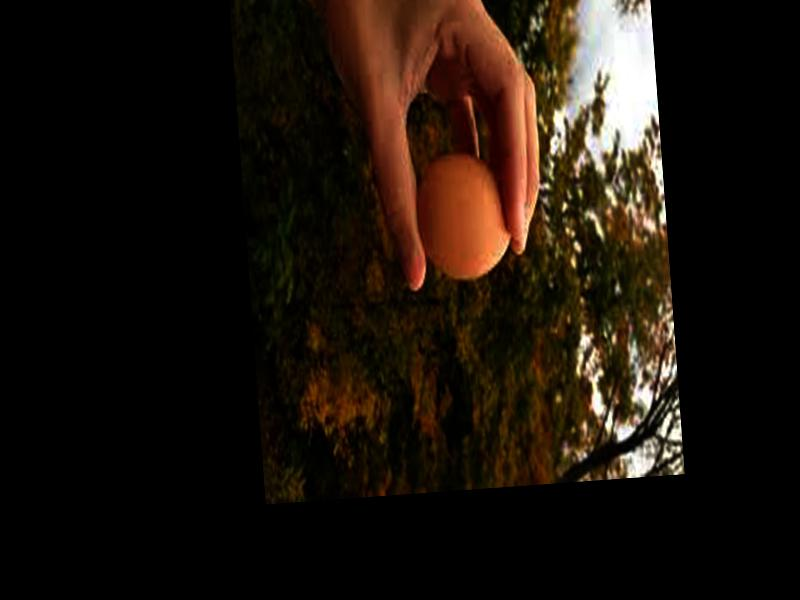Eggs: (412, 151, 515, 282)
